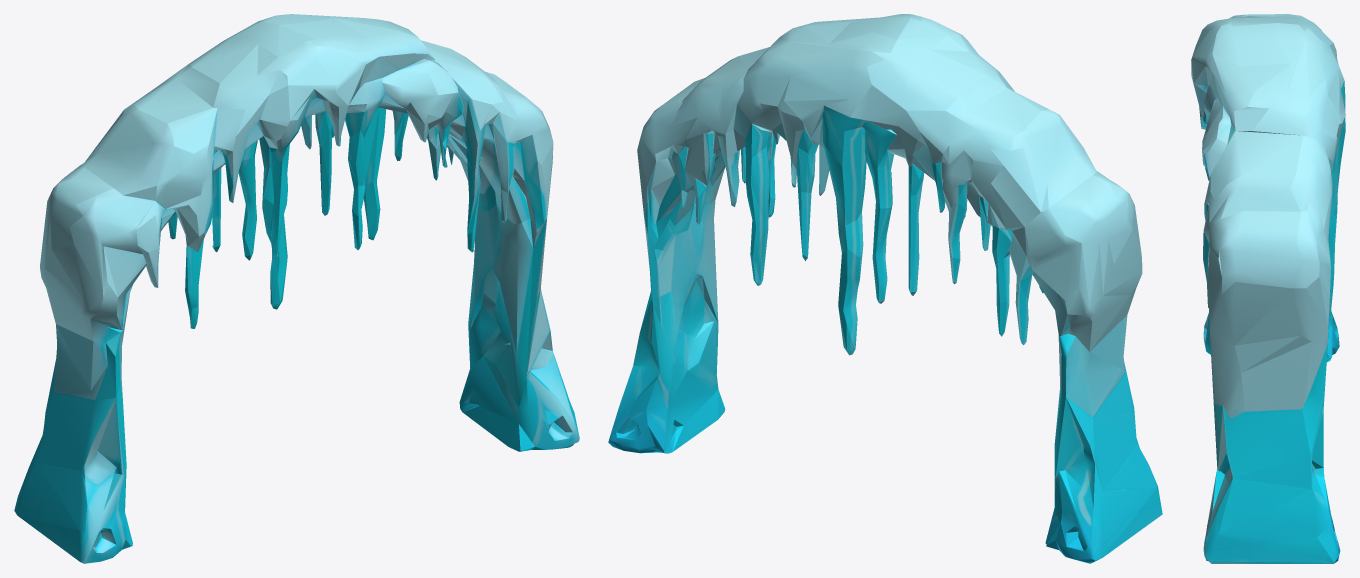
File: icicle.glb
3 views of the same model, side by side, from view 1: azimuth 30°, elevation 25°; view 2: azimuth 150°, elevation 25°; view 3: azimuth 270°, elevation 25° (orthographic). The views are drawn at different scales.
Size of the model in its own units: 1.9 by 1.66 by 0.5479.
Materials: 1 (1 with a texture image).
